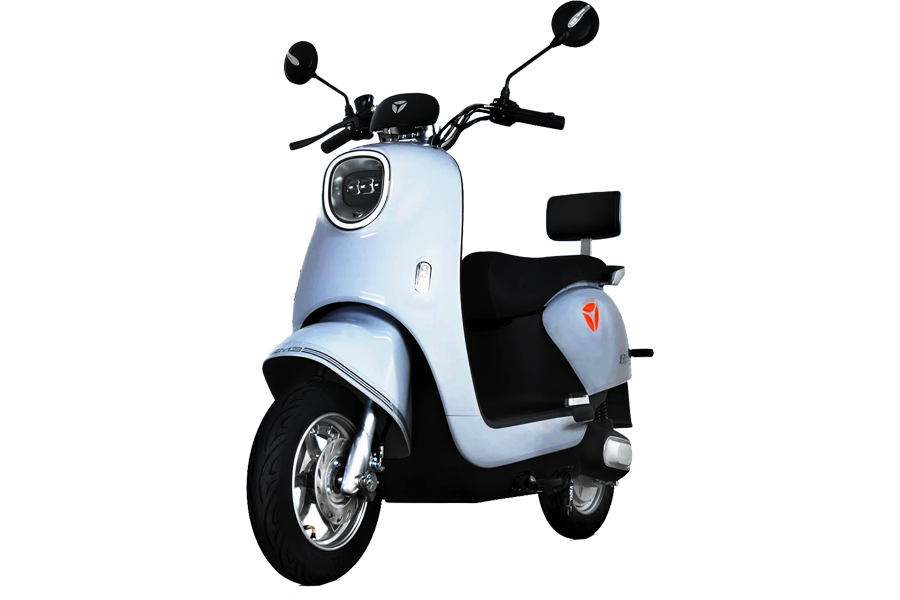MNV: (250, 37, 634, 588)
